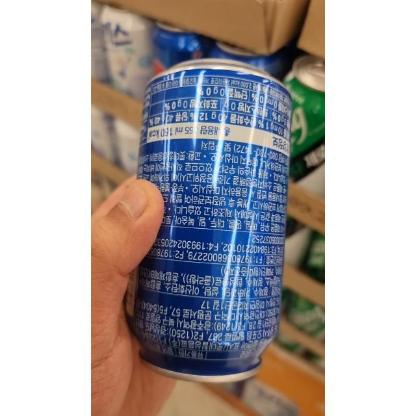Can: (124, 57, 296, 385)
